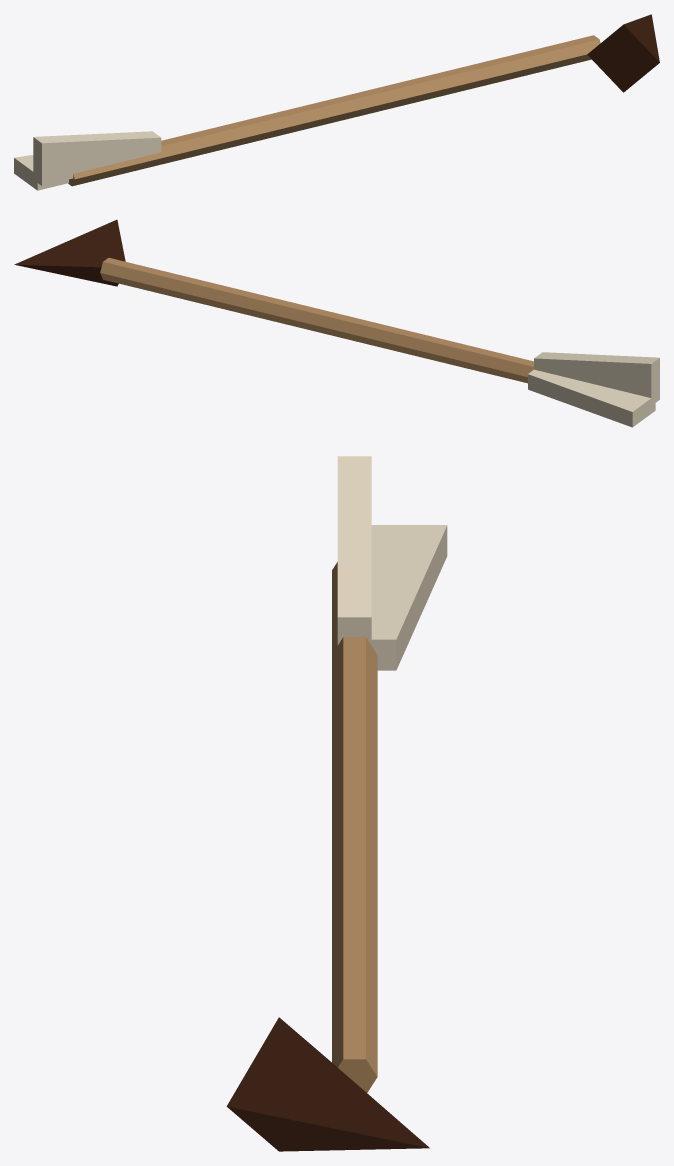
Rendered from BlackBronzeArrowStack3.glb.
3 renders of one model, top to bottom at view 1: azimuth 30°, elevation 25°; view 2: azimuth 150°, elevation 25°; view 3: azimuth 270°, elevation 25°, orthographic. The views are drawn at different scales.
Visible parts, largest first — view 1: BlackBronzeArrow_1_shaft, BlackBronzeArrow_2_shaft, BlackBronzeArrow_1_fletch_v, BlackBronzeArrow_3_shaft, BlackBronzeArrow_2_fletch_v, BlackBronzeArrow_1_head, BlackBronzeArrow_2_head, BlackBronzeArrow_3_head, BlackBronzeArrow_1_fletch_h, BlackBronzeArrow_3_fletch_v, BlackBronzeArrow_2_fletch_h; view 2: BlackBronzeArrow_1_shaft, BlackBronzeArrow_3_shaft, BlackBronzeArrow_2_shaft, BlackBronzeArrow_1_fletch_h, BlackBronzeArrow_1_fletch_v, BlackBronzeArrow_1_head, BlackBronzeArrow_2_fletch_v, BlackBronzeArrow_3_head, BlackBronzeArrow_2_head, BlackBronzeArrow_3_fletch_v; view 3: BlackBronzeArrow_1_head, BlackBronzeArrow_3_shaft, BlackBronzeArrow_1_shaft, BlackBronzeArrow_1_fletch_h, BlackBronzeArrow_2_shaft, BlackBronzeArrow_3_fletch_h, BlackBronzeArrow_3_fletch_v, BlackBronzeArrow_1_fletch_v, BlackBronzeArrow_3_head, BlackBronzeArrow_2_fletch_h.
Boxes of the visible parts, x1,y1,x2,y2 form: BlackBronzeArrow_1_shaft: (68,35,600,185); BlackBronzeArrow_2_shaft: (69,54,591,185); BlackBronzeArrow_1_fletch_v: (33,131,161,185); BlackBronzeArrow_3_shaft: (72,90,368,186); BlackBronzeArrow_2_fletch_v: (33,135,161,185); BlackBronzeArrow_1_head: (587,14,659,92); BlackBronzeArrow_2_head: (588,18,657,91); BlackBronzeArrow_3_head: (624,15,659,62); BlackBronzeArrow_1_fletch_h: (14,158,68,190); BlackBronzeArrow_3_fletch_v: (34,131,142,181); BlackBronzeArrow_2_fletch_h: (14,159,68,189); BlackBronzeArrow_1_shaft: (100,257,533,382); BlackBronzeArrow_3_shaft: (100,262,533,368); BlackBronzeArrow_2_shaft: (161,282,533,383); BlackBronzeArrow_1_fletch_h: (528,369,655,427); BlackBronzeArrow_1_fletch_v: (534,352,659,402); BlackBronzeArrow_1_head: (15,219,124,284); BlackBronzeArrow_2_fletch_v: (534,352,659,404); BlackBronzeArrow_3_head: (19,220,125,285); BlackBronzeArrow_2_head: (14,220,124,286); BlackBronzeArrow_3_fletch_v: (537,352,659,394); BlackBronzeArrow_1_head: (227,1017,429,1151); BlackBronzeArrow_3_shaft: (332,562,377,1090); BlackBronzeArrow_1_shaft: (332,720,377,1092); BlackBronzeArrow_1_fletch_h: (369,525,447,670); BlackBronzeArrow_2_shaft: (332,637,377,1092); BlackBronzeArrow_3_fletch_h: (368,525,447,668); BlackBronzeArrow_3_fletch_v: (337,456,371,644); BlackBronzeArrow_1_fletch_v: (337,456,371,644); BlackBronzeArrow_3_head: (227,1027,428,1147); BlackBronzeArrow_2_fletch_h: (371,528,446,670).
Bounding box in the file's own units: 1.01 × 0.117 × 0.1548.
